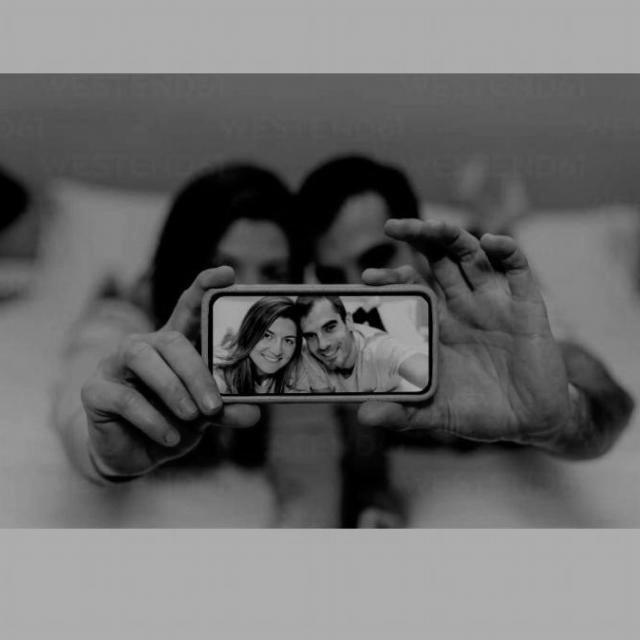fake: (196, 274, 446, 406)
